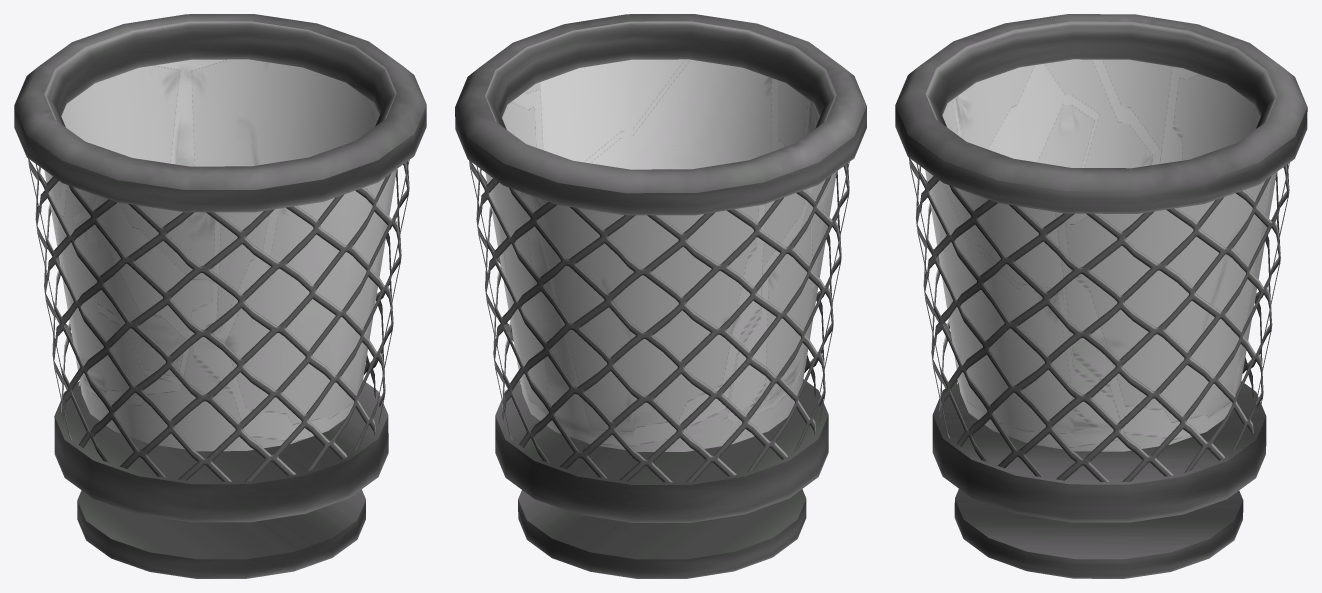
Rendered from TrashBinHand.fbx.
3 renders of one model, left to right at view 1: azimuth 30°, elevation 25°; view 2: azimuth 150°, elevation 25°; view 3: azimuth 270°, elevation 25°, orthographic.
Visible parts, largest first — view 1: Bin (1); view 2: Bin (1); view 3: Bin (1).
Part boxes in pixels (left/top/right/bottom): Bin (1): left=14, top=14, right=426, bottom=578; Bin (1): left=455, top=14, right=866, bottom=578; Bin (1): left=895, top=14, right=1307, bottom=578.
Size of the model in its own units: 0.6398 by 0.7408 by 0.6497.
